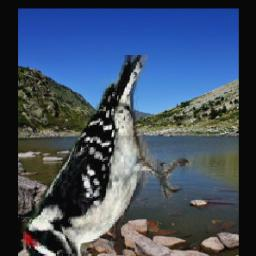Woodpecker: (21, 56, 191, 256)
